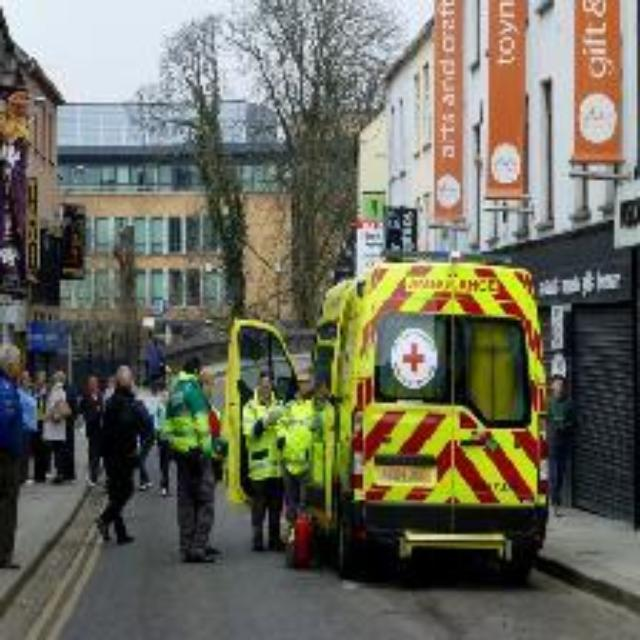emergency: (302, 260, 552, 582)
